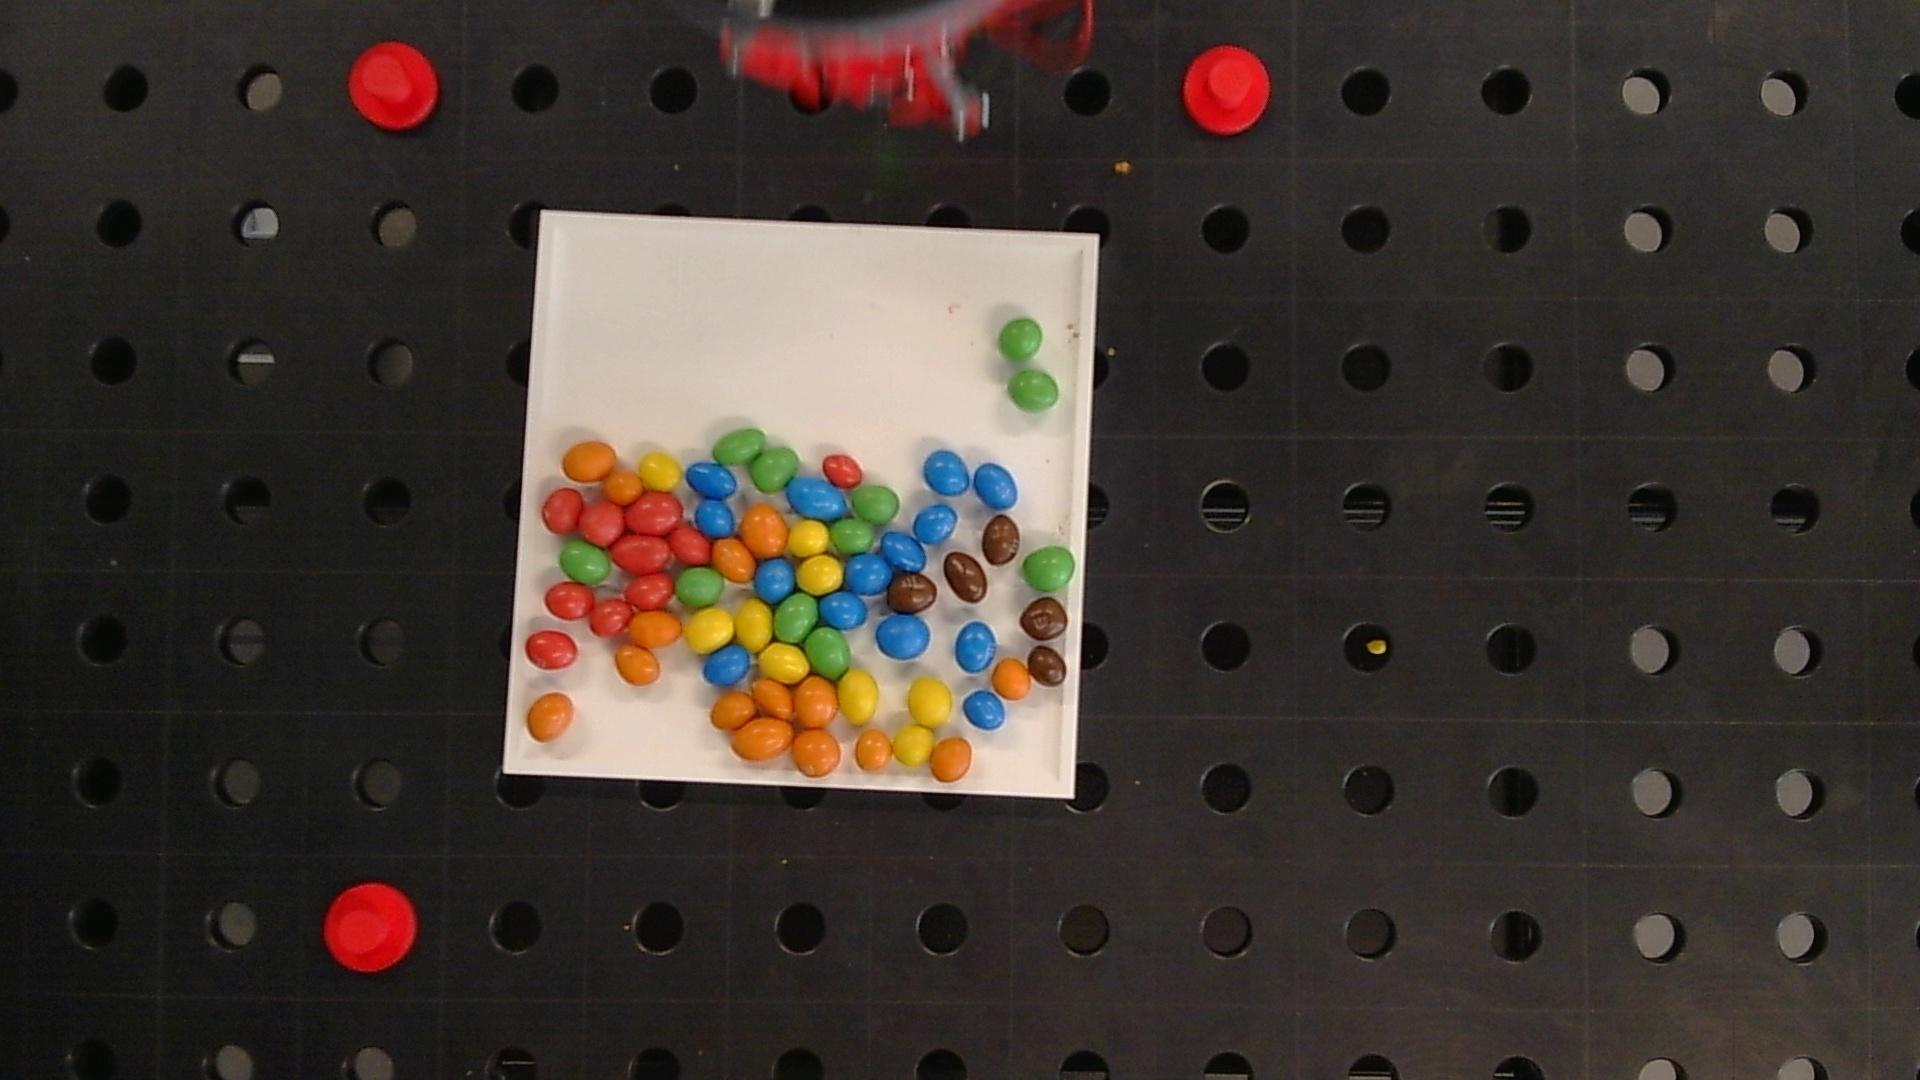blue: (786, 476, 848, 518), (876, 615, 930, 659), (923, 450, 971, 495), (975, 463, 1018, 510), (955, 622, 996, 673), (844, 554, 891, 595), (686, 462, 737, 498), (704, 646, 750, 686), (754, 558, 795, 601), (882, 531, 927, 571), (820, 592, 868, 629), (914, 504, 957, 543), (963, 691, 1006, 729), (695, 500, 736, 537)
brown: (943, 553, 988, 604), (1019, 599, 1067, 640), (981, 516, 1021, 564), (887, 574, 936, 613), (1027, 645, 1067, 686)
green: (749, 447, 799, 492), (1023, 547, 1075, 591), (560, 541, 611, 584), (807, 629, 851, 678), (774, 593, 818, 642), (1007, 371, 1060, 410), (851, 485, 901, 524), (998, 319, 1043, 361), (712, 429, 765, 464), (676, 568, 723, 607), (829, 518, 876, 554)
orange: (732, 717, 794, 760), (740, 506, 787, 558), (527, 692, 574, 741), (793, 731, 843, 775), (562, 440, 617, 480), (794, 678, 837, 727), (712, 537, 756, 583), (629, 612, 682, 647), (931, 737, 972, 782), (615, 645, 659, 684), (711, 692, 756, 729), (752, 679, 793, 719), (855, 729, 893, 770), (993, 658, 1031, 699), (604, 469, 642, 504)
red: (611, 534, 671, 572), (628, 493, 682, 533), (526, 630, 578, 669), (582, 502, 624, 545), (545, 583, 593, 618), (625, 574, 674, 609), (542, 488, 582, 531), (589, 596, 633, 634), (670, 525, 711, 563), (822, 454, 862, 487)
yellow: (683, 608, 735, 653), (839, 671, 880, 724), (909, 678, 952, 727), (736, 600, 773, 649), (760, 644, 807, 680), (798, 555, 843, 593), (893, 725, 935, 765), (640, 452, 682, 489), (787, 521, 828, 556)
